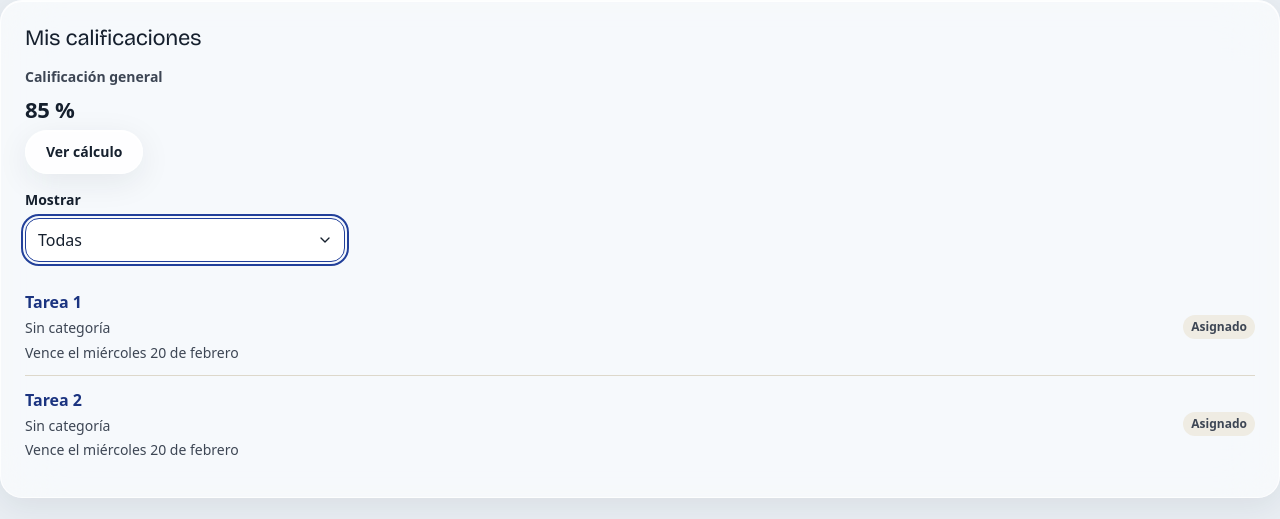
it: «Mis calificaciones» (CAL-1D04) › CAL-1D04: el filtro pide con su estado y el foco se queda en el selector
Expected: the link "Tarea 1" is shown, [25, 291, 82, 313]
Select "Calificadas" in the dropdown labelled "Mostrar": (185, 240) [25, 218, 345, 262]
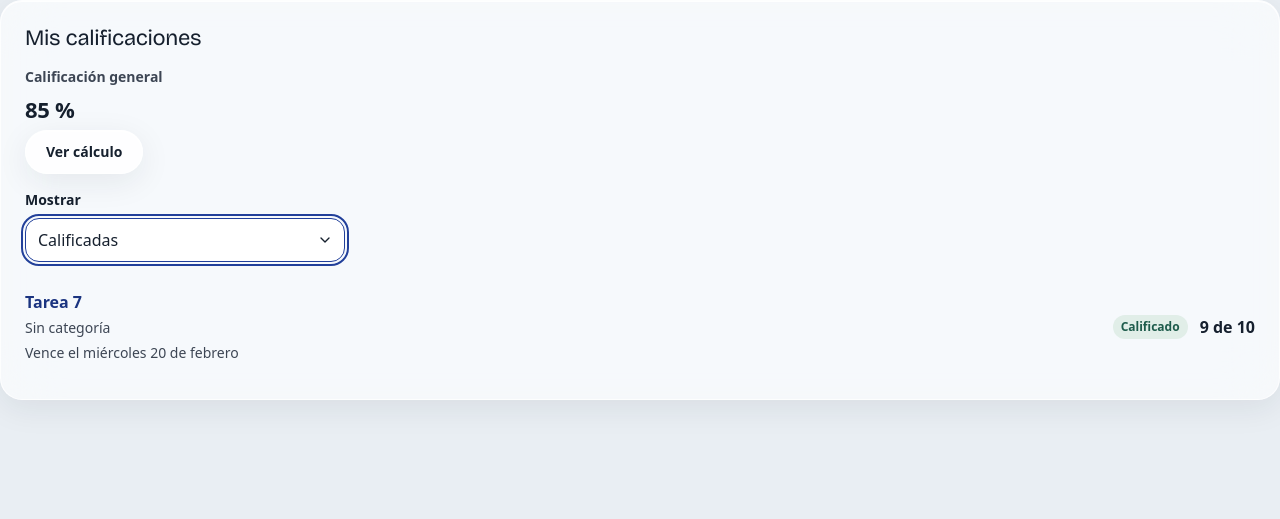
Expected: the link "Tarea 7" is shown, [25, 291, 82, 313]
